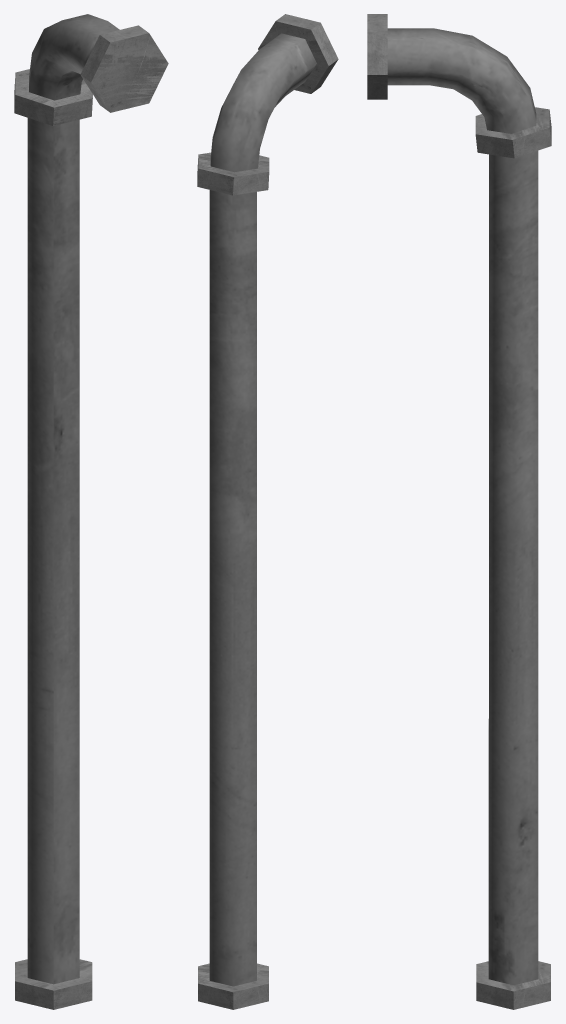
File: Pipes3.fbx
The picture shows the model from 3 angles, left to right: view 1: azimuth 30°, elevation 25°; view 2: azimuth 150°, elevation 25°; view 3: azimuth 270°, elevation 25°; orthographic projection. The views are drawn at different scales.
Visible parts, largest first — view 1: Pipes3; view 2: Pipes3; view 3: Pipes3.
Part boxes in pixels (x1,y1,x2,y2): Pipes3: [14, 14, 168, 1009]; Pipes3: [197, 14, 338, 1009]; Pipes3: [367, 14, 551, 1009].
Bounding box in the file's own units: 21 × 261 × 45.02.
